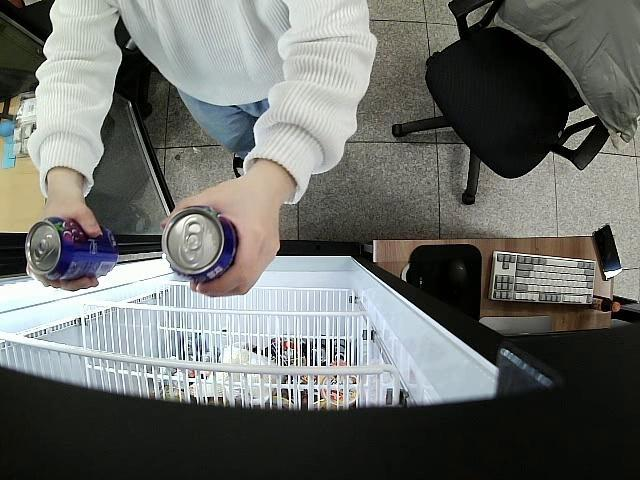14_welchsGrape: (26, 217, 120, 282), (162, 206, 240, 283)
